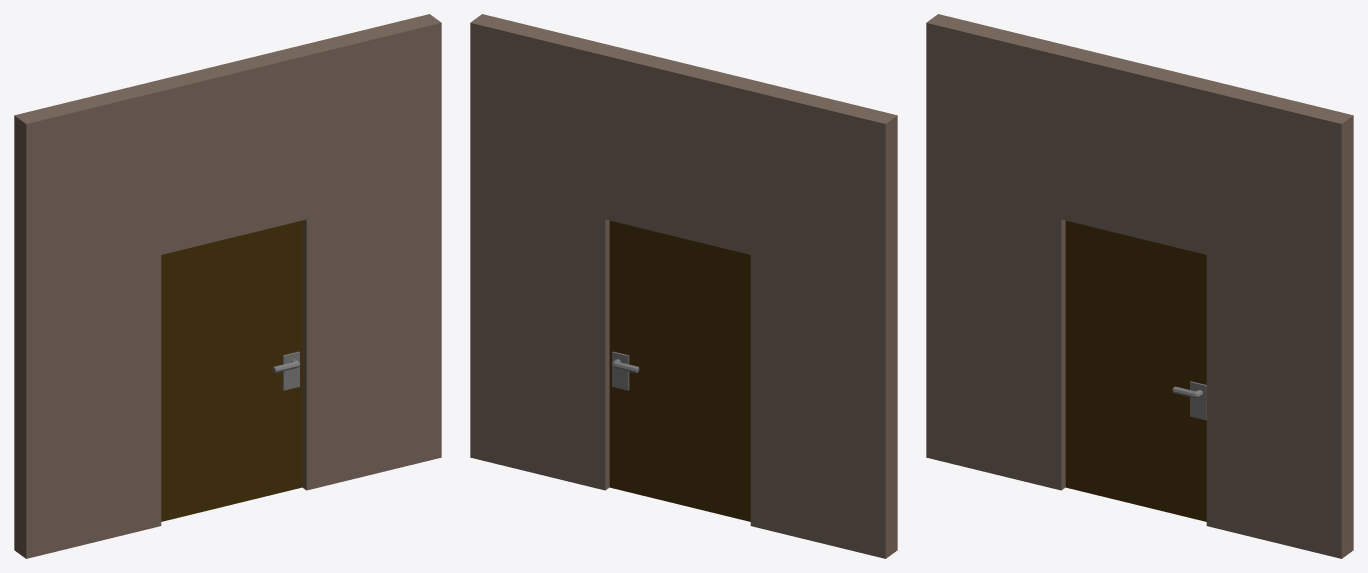
Rendered from Door.glb.
3 views of the same model, side by side, from view 1: azimuth 30°, elevation 25°; view 2: azimuth 150°, elevation 25°; view 3: azimuth 330°, elevation 25° (orthographic).
Parts seen in each view (by area): view 1: DoorFrame, Door; view 2: DoorFrame, Door; view 3: DoorFrame, Door.
Boxes of the visible parts, <box> form: DoorFrame: <box>14,14,441,558</box>; Door: <box>161,220,302,521</box>; DoorFrame: <box>470,14,897,558</box>; Door: <box>609,220,750,521</box>; DoorFrame: <box>926,14,1353,558</box>; Door: <box>1065,220,1206,521</box>.
Size of the model in its own units: 4 by 4 by 0.2634.
